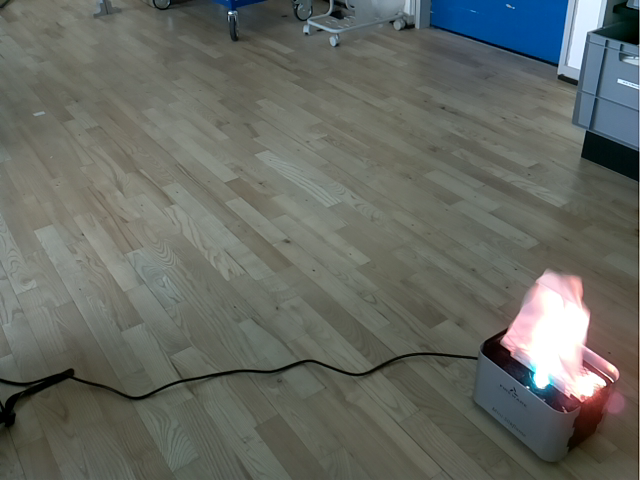fire: (498, 268, 590, 403)
